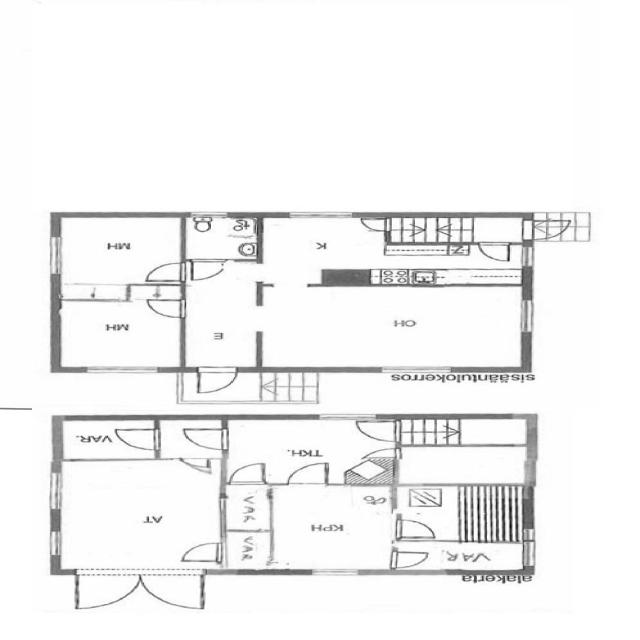door: (177, 426, 234, 453), (108, 426, 166, 452), (192, 365, 242, 395), (389, 516, 443, 542), (282, 461, 334, 487), (349, 418, 400, 443), (139, 297, 190, 321), (178, 540, 228, 564), (140, 259, 190, 283), (182, 258, 229, 283), (387, 546, 434, 570), (474, 240, 516, 265), (228, 461, 268, 485), (227, 261, 267, 284), (356, 216, 398, 235), (361, 445, 404, 462)
window: (41, 232, 68, 278), (514, 296, 542, 337), (278, 210, 370, 222), (75, 365, 165, 376), (45, 467, 66, 514), (372, 365, 462, 375), (301, 567, 370, 578), (310, 413, 370, 423), (46, 527, 66, 557), (188, 210, 237, 220), (520, 244, 538, 268)
zone: (257, 284, 528, 371), (54, 457, 225, 570), (258, 230, 536, 287), (223, 418, 398, 485), (271, 483, 393, 571), (54, 213, 184, 287), (55, 299, 184, 371), (394, 480, 530, 540), (61, 568, 217, 612), (394, 444, 531, 486), (387, 536, 530, 573), (182, 212, 260, 261), (222, 483, 272, 533), (225, 531, 272, 571)
